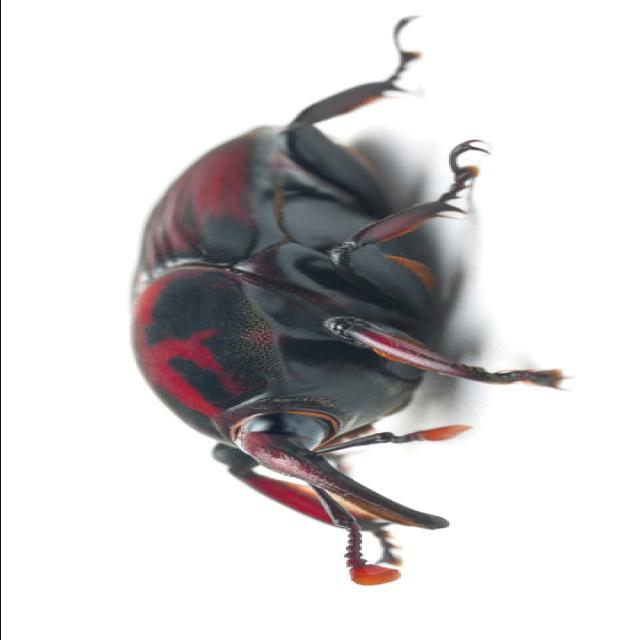Red-palm-weevil: (126, 10, 489, 588)
